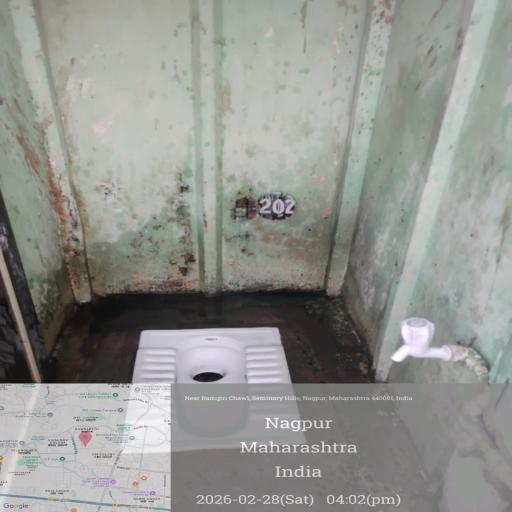clean_indian: (134, 326, 290, 392)
dirty_floor: (20, 286, 391, 388)
partial_dirty_floor: (86, 164, 364, 304), (395, 17, 512, 331), (0, 5, 120, 294), (144, 12, 384, 152)
